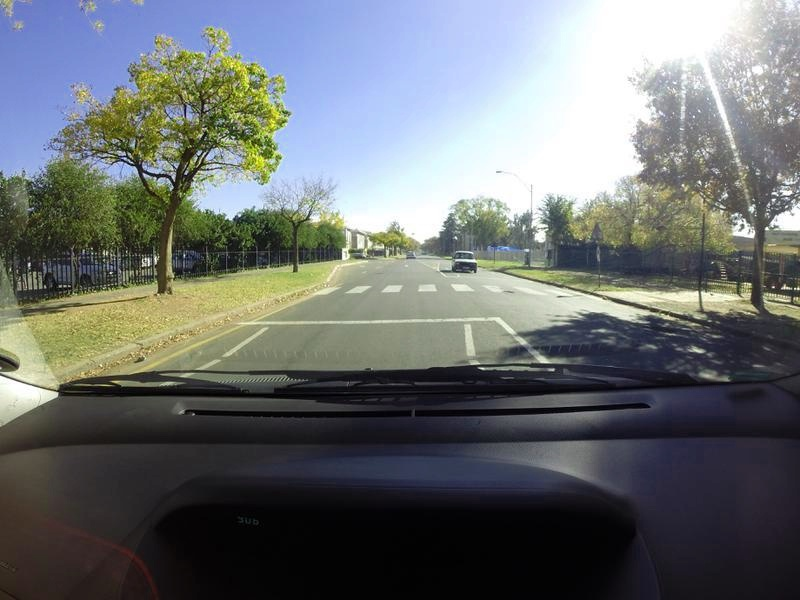pothole: (504, 284, 522, 300)
